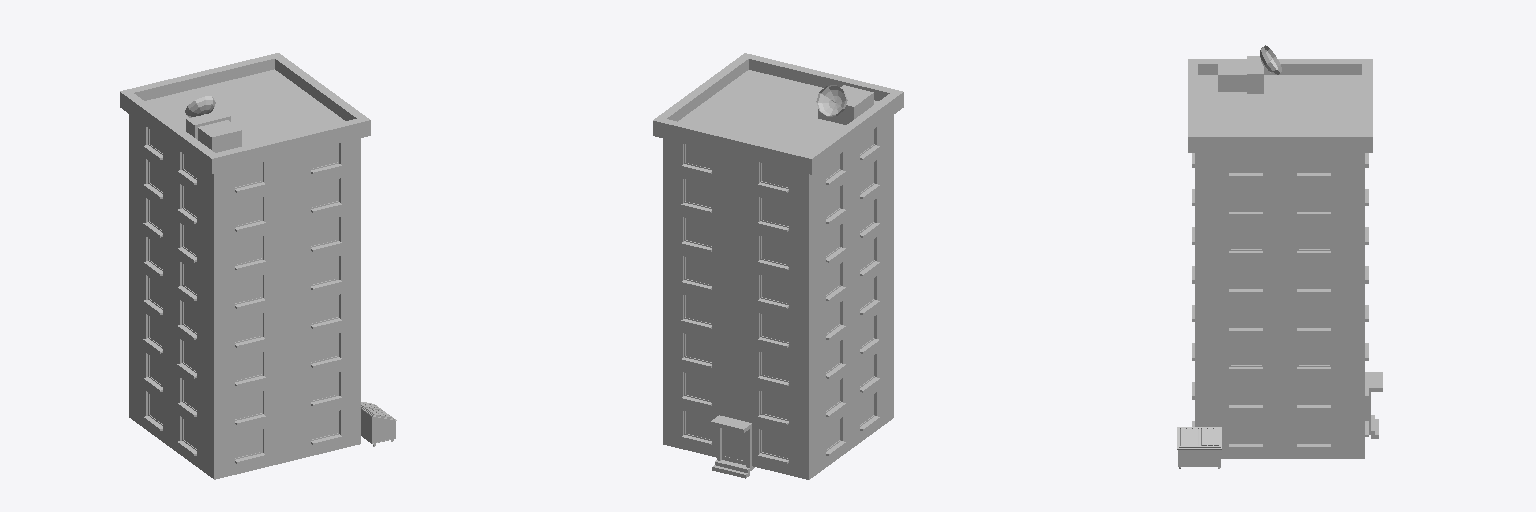
Rendered from building2.obj.
The picture shows the model from 3 angles: view 1: azimuth 30°, elevation 25°; view 2: azimuth 150°, elevation 25°; view 3: azimuth 270°, elevation 25°; orthographic projection.
Parts seen in each view (by area): view 1: Condominio.002, Tetto.006, Dumpster.005; view 2: Condominio.002, Tetto.006, Entrata.002; view 3: Condominio.002, Tetto.006, Dumpster.005, Entrata.002.
Part boxes in pixels (bbox=[...]): Condominio.002: bbox=[129, 114, 360, 479]; Tetto.006: bbox=[120, 53, 370, 173]; Dumpster.005: bbox=[361, 402, 396, 446]; Condominio.002: bbox=[663, 115, 893, 479]; Tetto.006: bbox=[653, 53, 903, 174]; Entrata.002: bbox=[711, 415, 754, 478]; Condominio.002: bbox=[1192, 153, 1368, 458]; Tetto.006: bbox=[1188, 45, 1372, 152]; Dumpster.005: bbox=[1177, 427, 1221, 468]; Entrata.002: bbox=[1365, 372, 1382, 438].
Bounding box in the file's own units: 12.42 × 23.7 × 12.26.